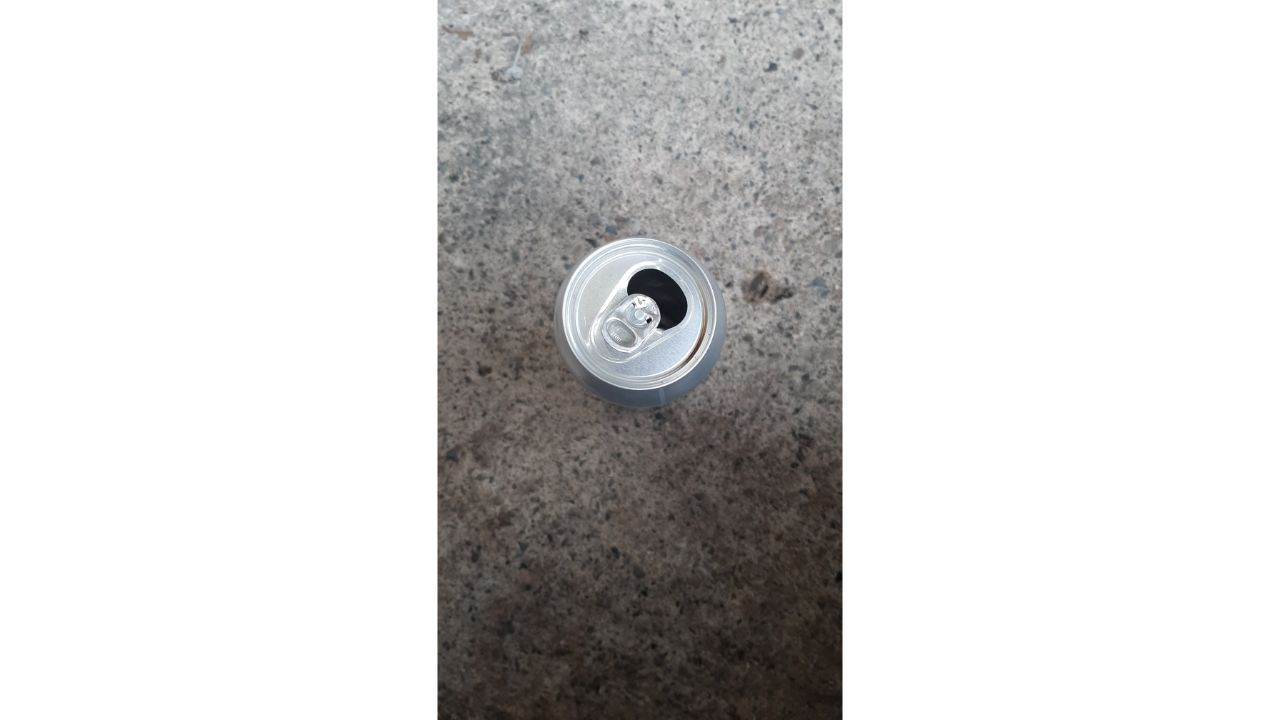Can: (539, 220, 741, 420)
